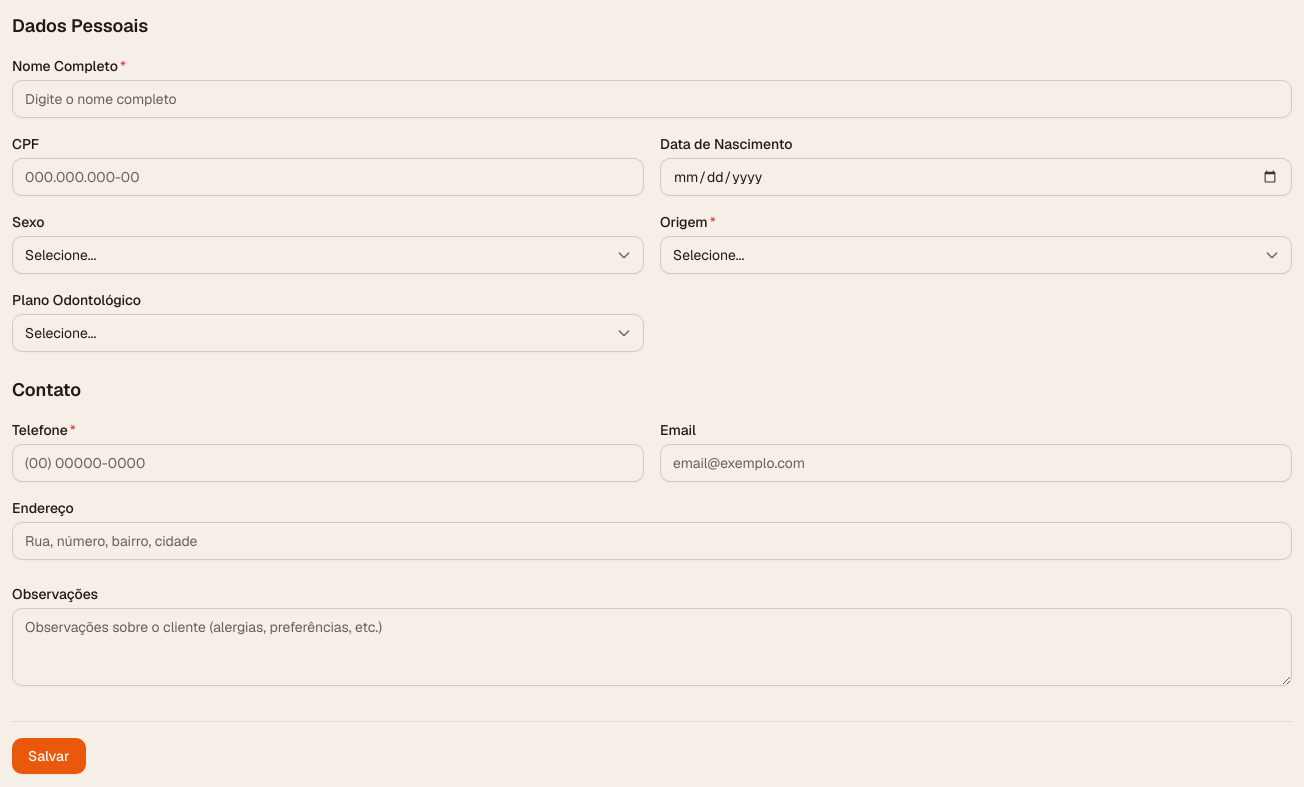
ClienteForm › valida CPF inválido
In the field labelled "Nome Completo*": (652, 99) [12,80,1292,118], type "João Silva"
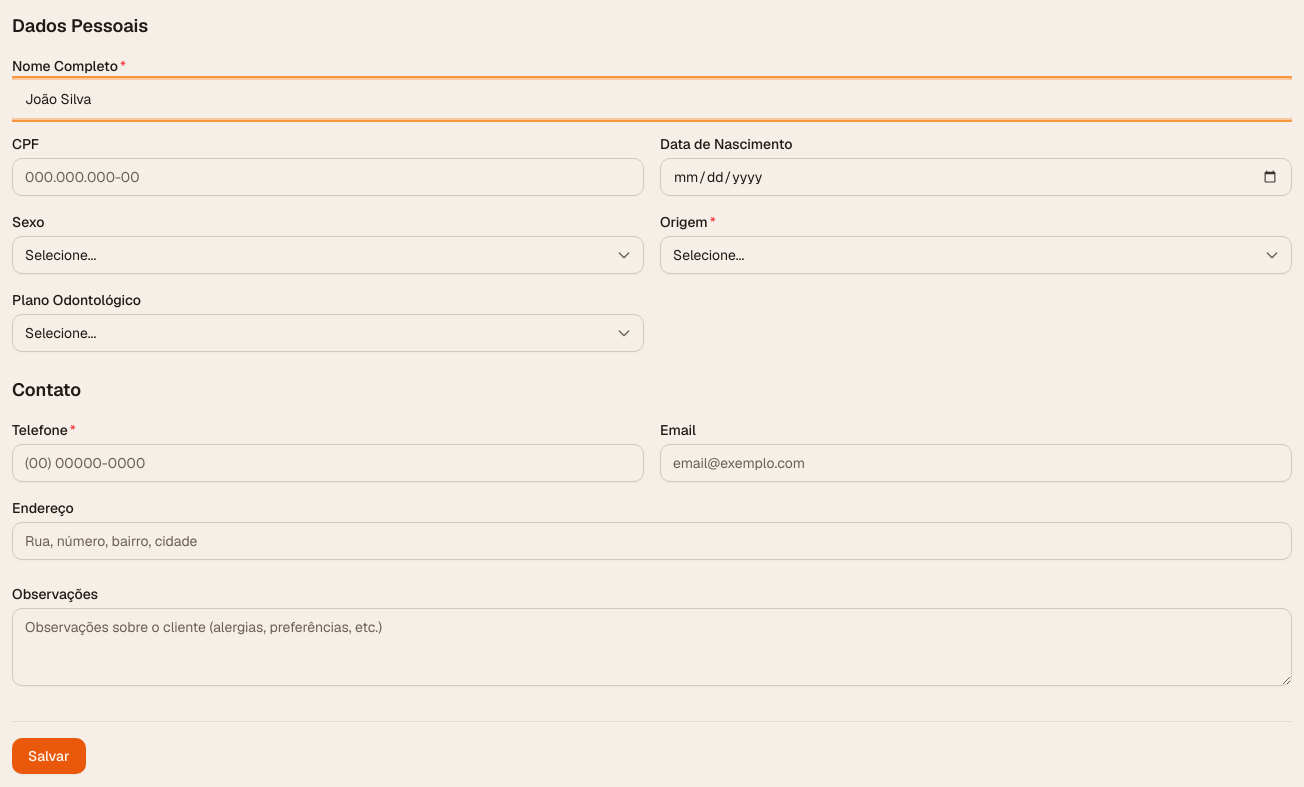
In the field labelled "CPF": (328, 177) [12,158,644,196], type "111.111.111-11"
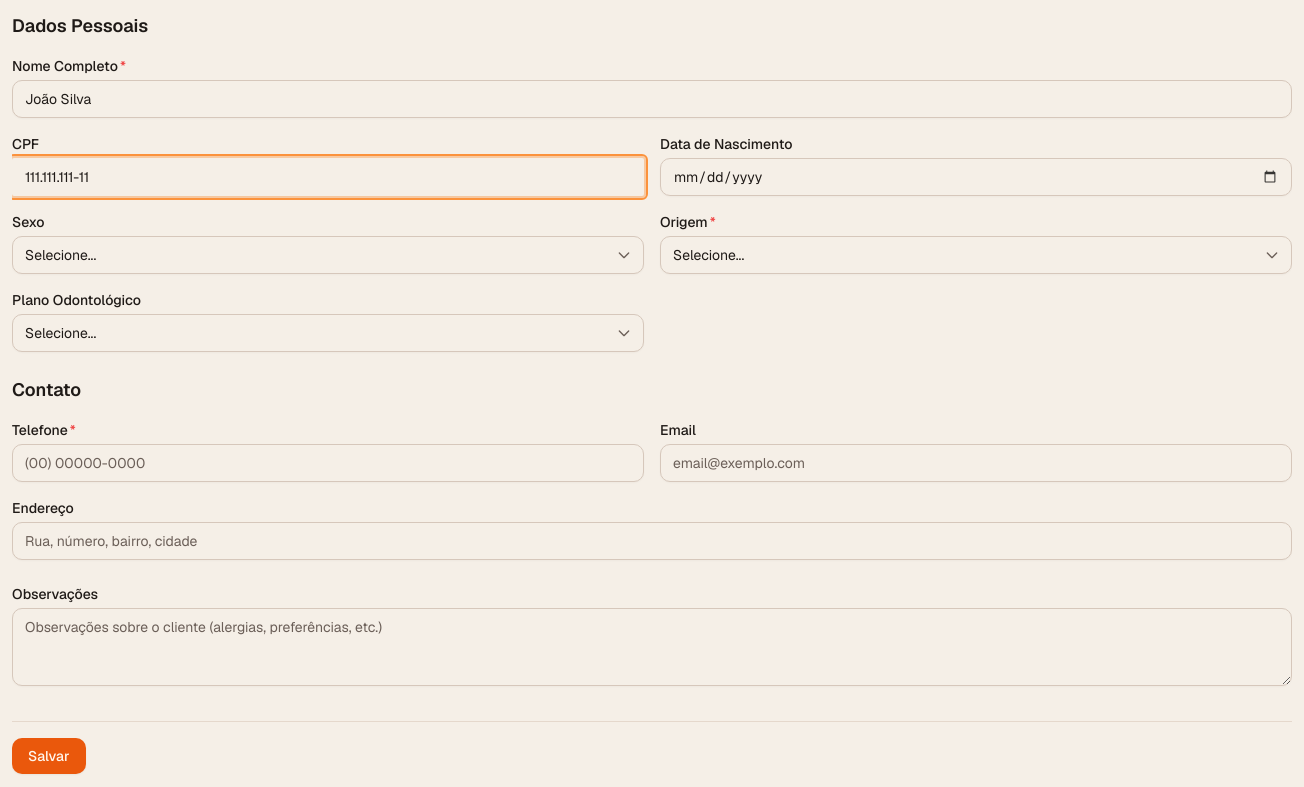
Select "Indicação" in the dropdown labelled "Origem*": (976, 255) [660,236,1292,274]
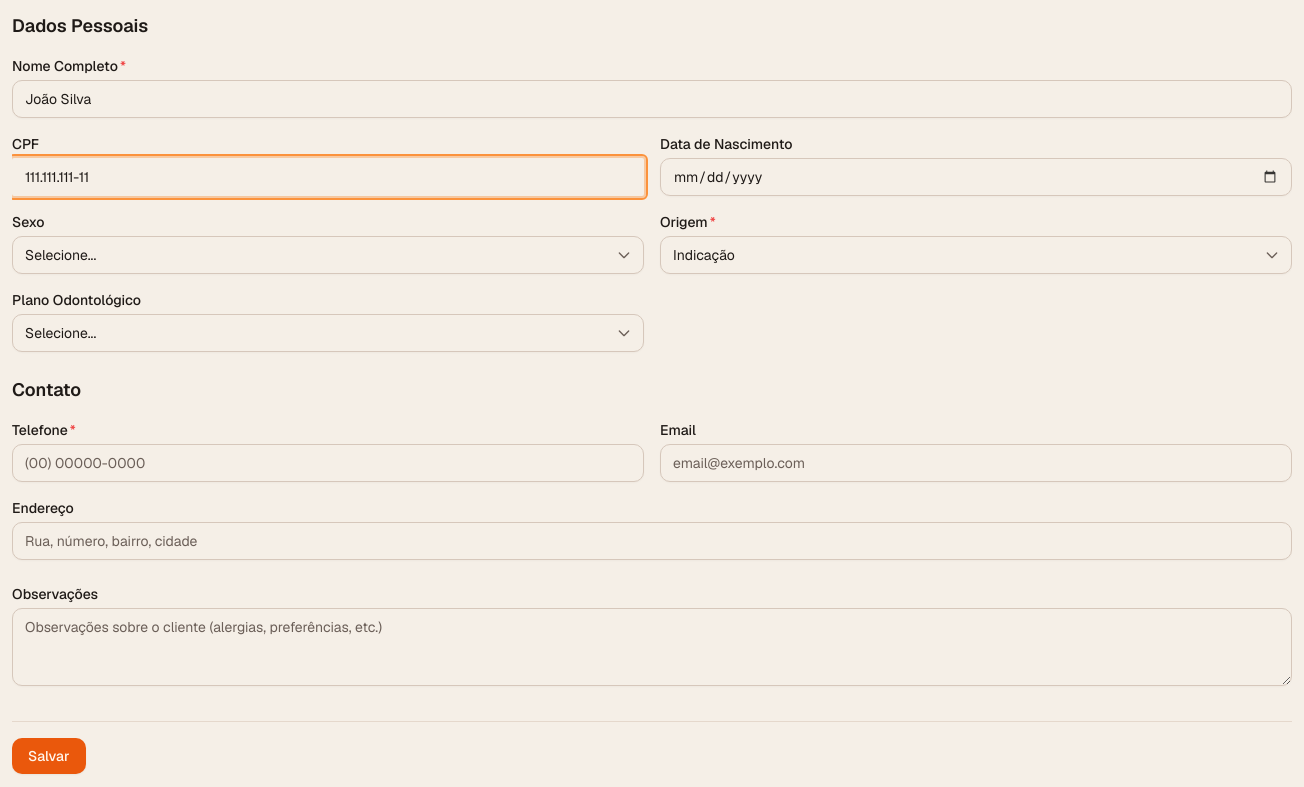
Submit the form named "Salvar"
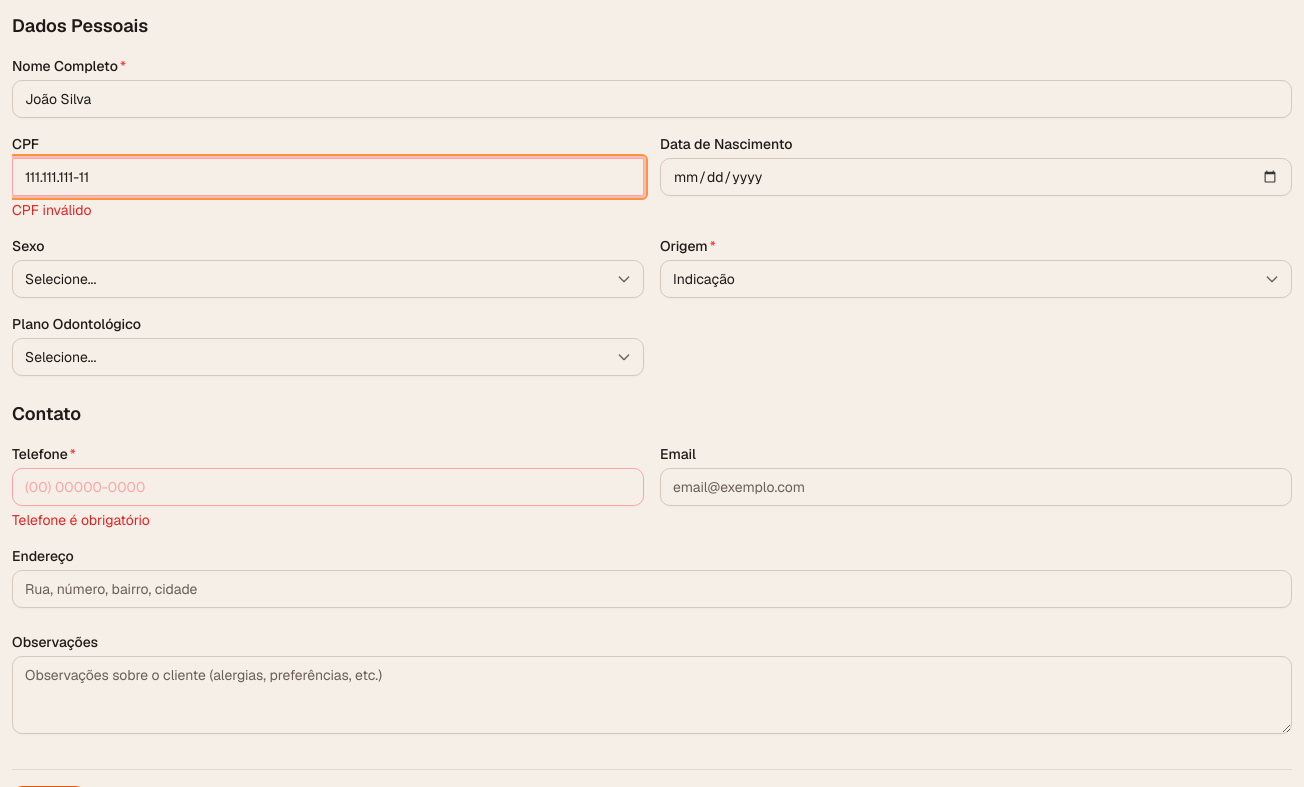
Now the text "CPF inválido" is shown, box [12,201,92,219]
